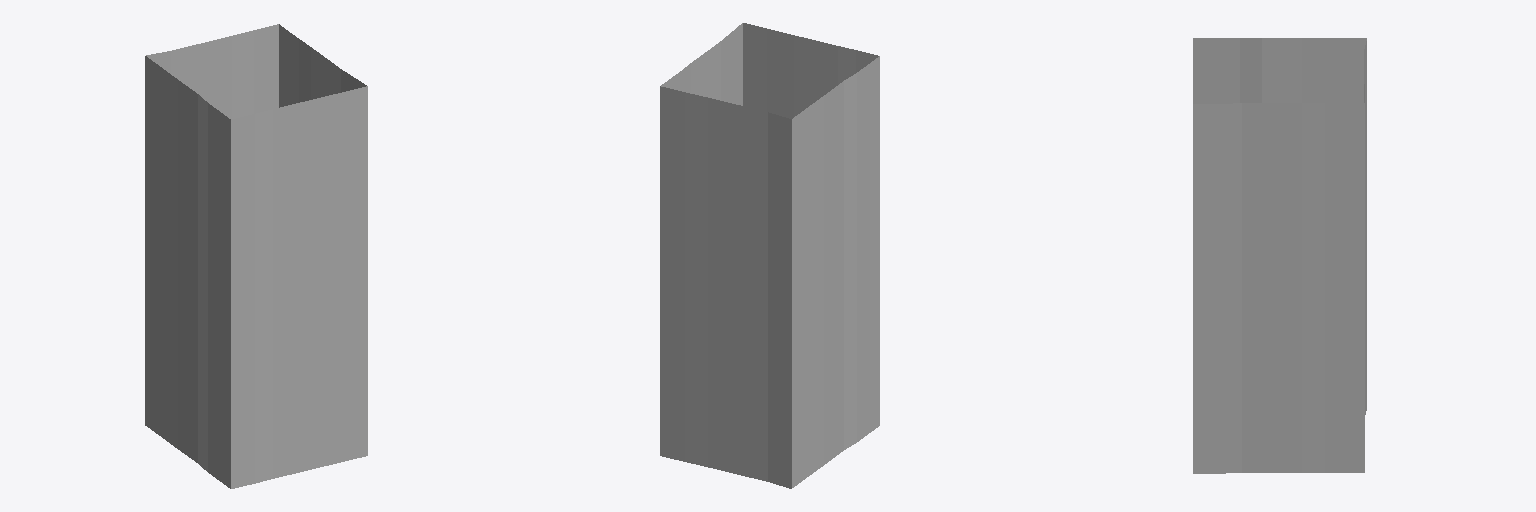
The model's file is level.obj.
3 renders of one model, left to right at view 1: azimuth 30°, elevation 25°; view 2: azimuth 150°, elevation 25°; view 3: azimuth 270°, elevation 25°, orthographic.
Visible parts, largest first — view 1: room_07; view 2: room_07; view 3: room_07.
Part boxes in pixels (left/top/right/bottom): room_07: left=145, top=24, right=367, bottom=488; room_07: left=660, top=23, right=879, bottom=488; room_07: left=1193, top=38, right=1366, bottom=473.
Bounding box in the file's own units: 107 × 276 × 118.